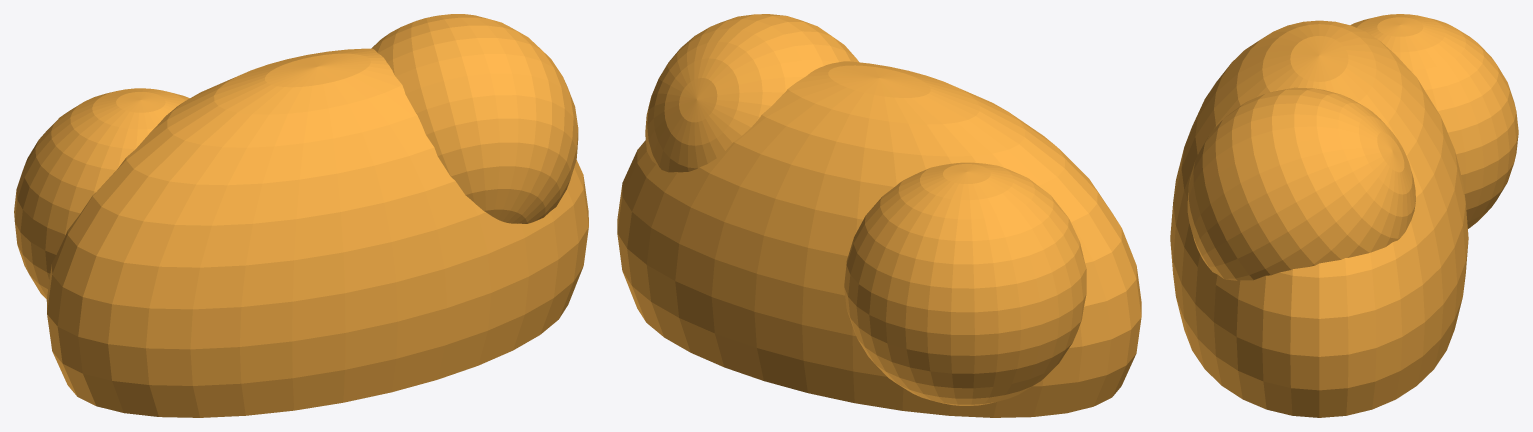
Rendered from Bush2.fbx.
3 views of the same model, side by side, from view 1: azimuth 30°, elevation 25°; view 2: azimuth 150°, elevation 25°; view 3: azimuth 270°, elevation 25° (orthographic). The views are drawn at different scales.
Visible parts, largest first — view 1: Sphere.001; view 2: Sphere.001; view 3: Sphere.001.
Boxes of the visible parts, box(x1,y1,x2,y2) form: Sphere.001: box(14, 14, 588, 417); Sphere.001: box(617, 14, 1141, 417); Sphere.001: box(1170, 14, 1518, 417).
Bounding box in the file's own units: 1045 × 553 × 650.
